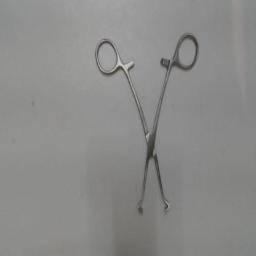Babcock Tissue Forceps: (92, 29, 202, 217)
